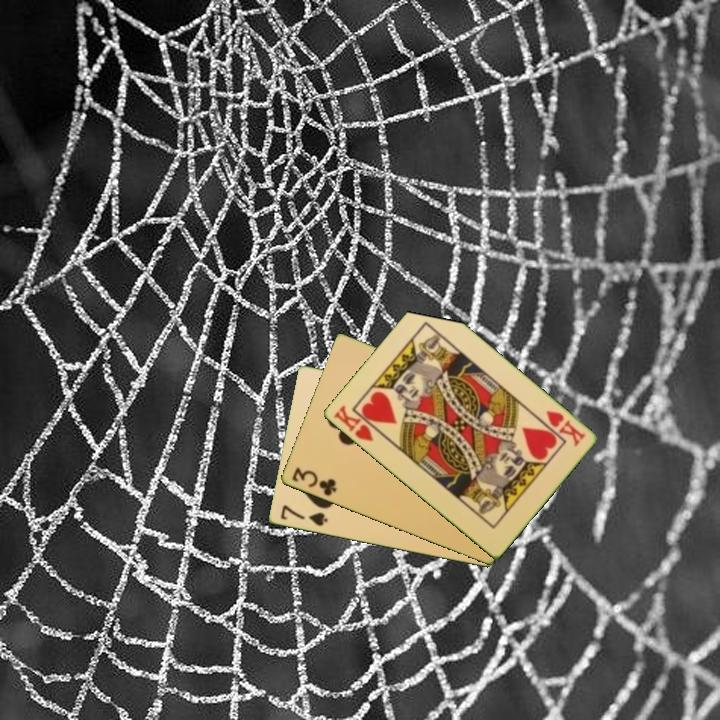3c: (288, 464, 339, 499)
7s: (277, 501, 330, 529)
Kh: (329, 402, 384, 444), (542, 407, 588, 450)
